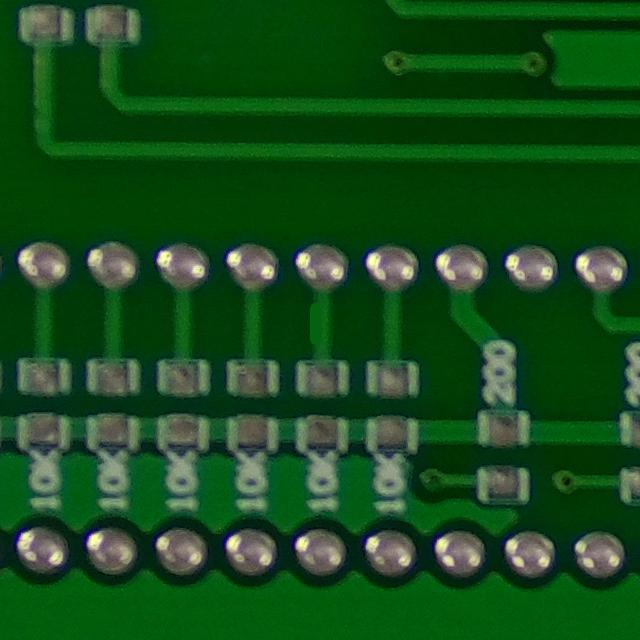spur: (300, 288, 341, 353)
